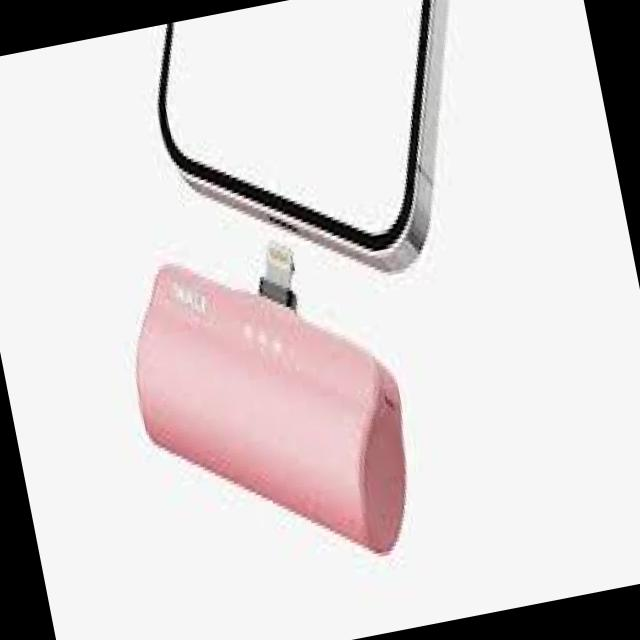power_bank: (105, 202, 437, 605)
